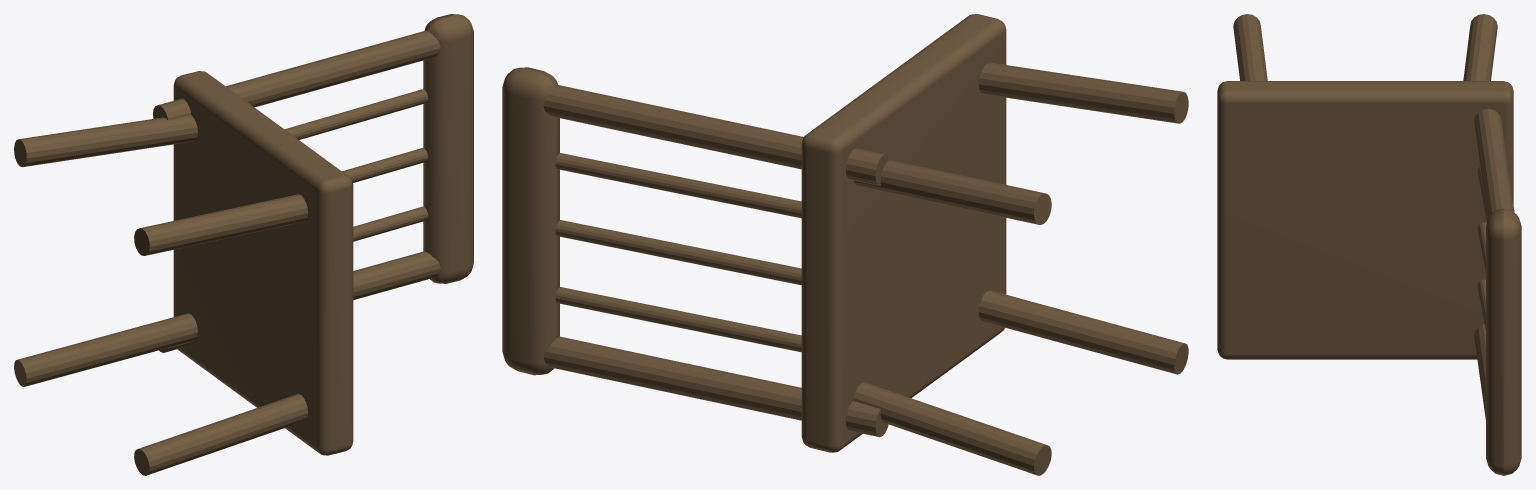
The model's file is fallen_chair.glb.
3 views of the same model, side by side, from view 1: azimuth 30°, elevation 25°; view 2: azimuth 150°, elevation 25°; view 3: azimuth 270°, elevation 25° (orthographic). The views are drawn at different scales.
Visible parts, largest first — view 1: fallen_chair; view 2: fallen_chair; view 3: fallen_chair.
Boxes of the visible parts, left/top/right/bottom form: fallen_chair: left=14, top=14, right=473, bottom=475; fallen_chair: left=502, top=14, right=1188, bottom=475; fallen_chair: left=1217, top=14, right=1521, bottom=475.
Size of the model in its own units: 1.32 by 0.75 by 0.77.
